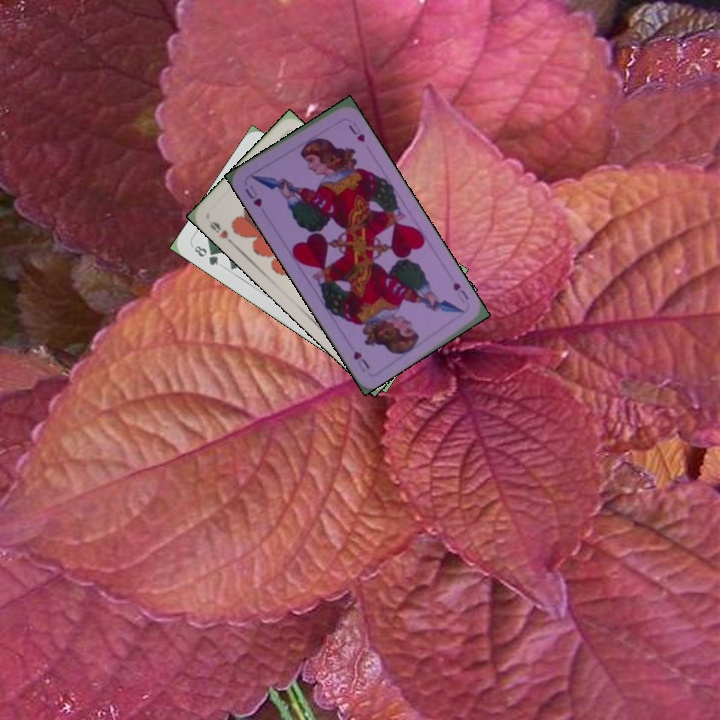G8: (190, 241, 221, 268)
H9: (205, 217, 237, 248)
HU: (241, 181, 265, 210), (449, 278, 472, 306)
